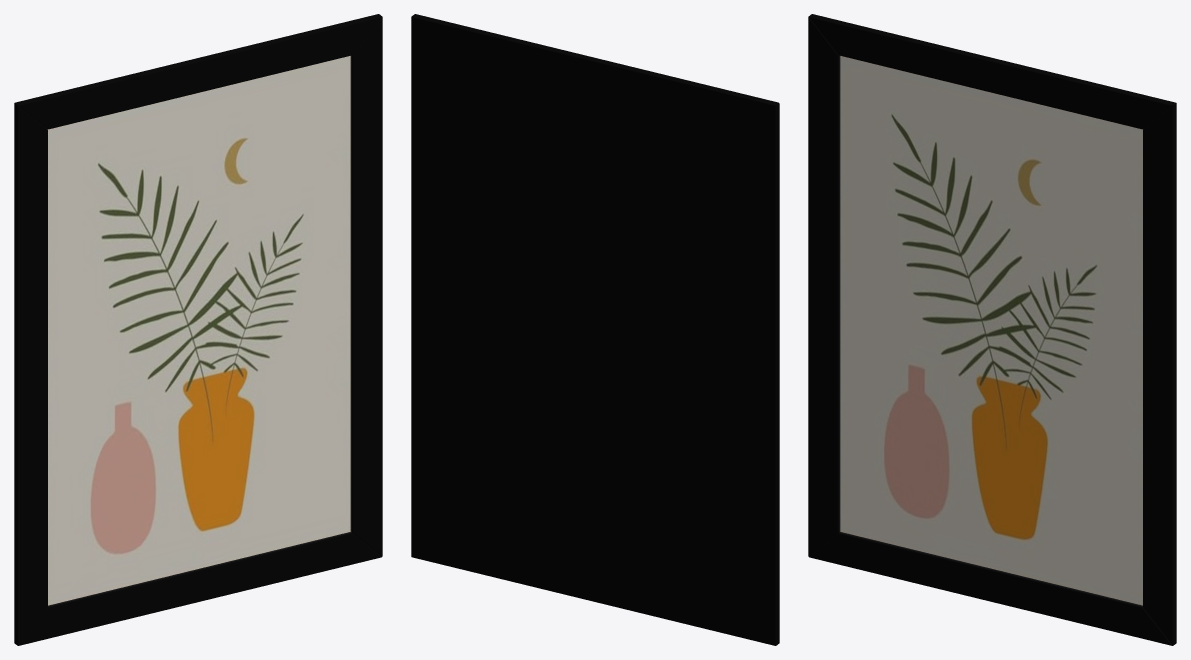
File: photoframe.glb
3 renders of one model, left to right at view 1: azimuth 30°, elevation 25°; view 2: azimuth 150°, elevation 25°; view 3: azimuth 330°, elevation 25°, orthographic.
Parts seen in each view (by area): view 1: Plane.002, Plane.001; view 2: Plane.001; view 3: Plane.002, Plane.001.
Boxes of the visible parts, <box> form: Plane.002: <box>47,56,350,605</box>; Plane.001: <box>14,14,382,645</box>; Plane.001: <box>411,14,779,645</box>; Plane.002: <box>840,56,1142,605</box>; Plane.001: <box>808,14,1176,645</box>.
Bounding box in the file's own units: 0.048 × 0.068 × 0.000907.
3 materials, 1 textured.
